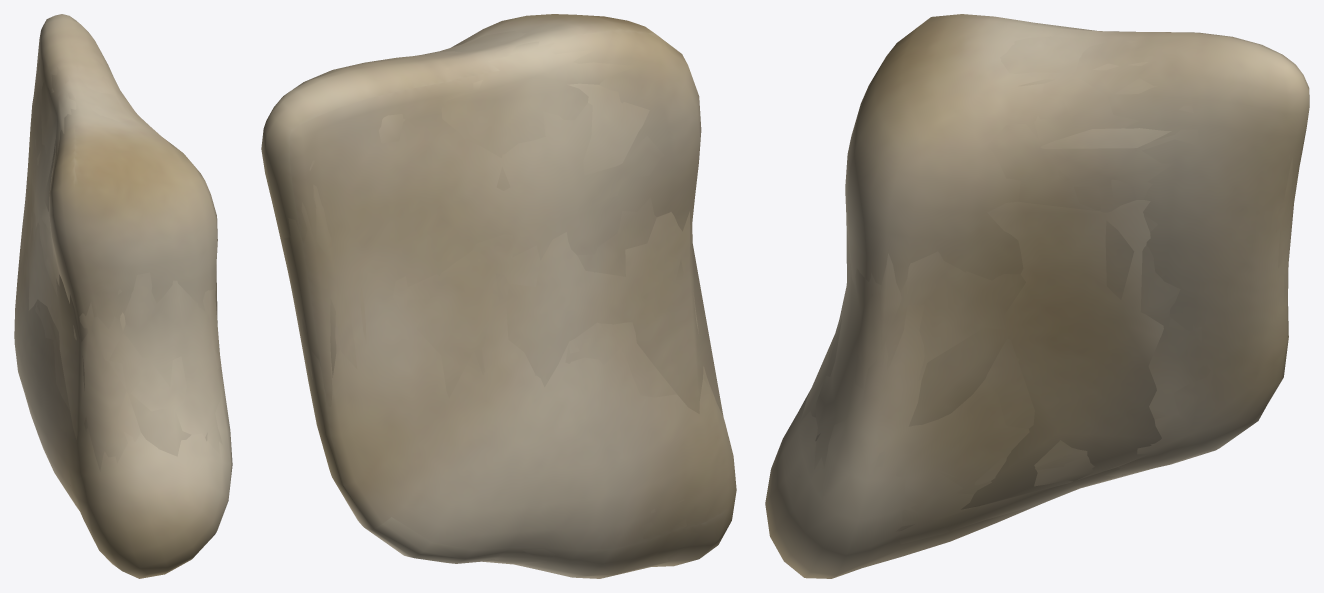
The model's file is R tarsi tertium.fbx.
The picture shows the model from 3 angles, left to right: view 1: azimuth 30°, elevation 25°; view 2: azimuth 150°, elevation 25°; view 3: azimuth 270°, elevation 25°; orthographic projection. The views are drawn at different scales.
Visible parts, largest first — view 1: R tarsi tertium high, R tarsi tertium, R tarsi tertium low; view 2: R tarsi tertium high, R tarsi tertium, R tarsi tertium low; view 3: R tarsi tertium high, R tarsi tertium, R tarsi tertium low.
Part boxes in pixels (box(x1,y1,x2,y2)): R tarsi tertium high: box(14, 14, 232, 578); R tarsi tertium: box(20, 58, 222, 510); R tarsi tertium low: box(28, 87, 217, 471); R tarsi tertium high: box(261, 14, 736, 578); R tarsi tertium: box(272, 30, 707, 568); R tarsi tertium low: box(313, 41, 723, 416); R tarsi tertium high: box(765, 14, 1309, 578); R tarsi tertium: box(796, 23, 1299, 565); R tarsi tertium low: box(800, 79, 1171, 531).
Bounding box in the file's own units: 1.61 × 4.04 × 3.52.
